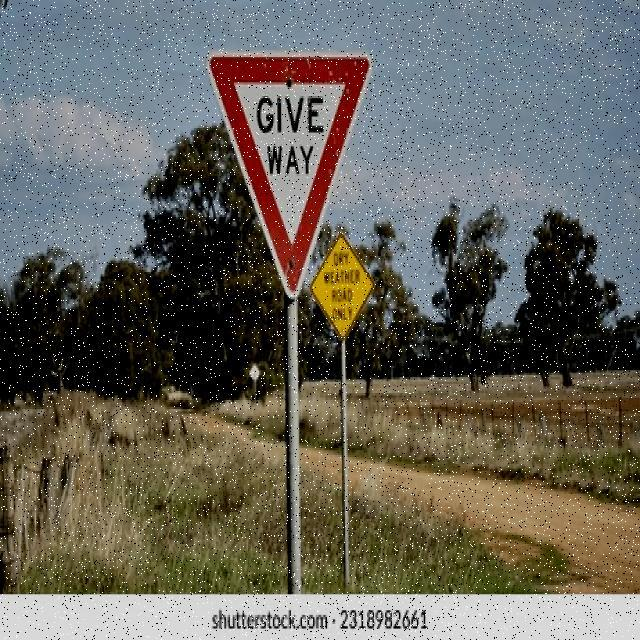Traffic sign: (202, 46, 384, 343)
